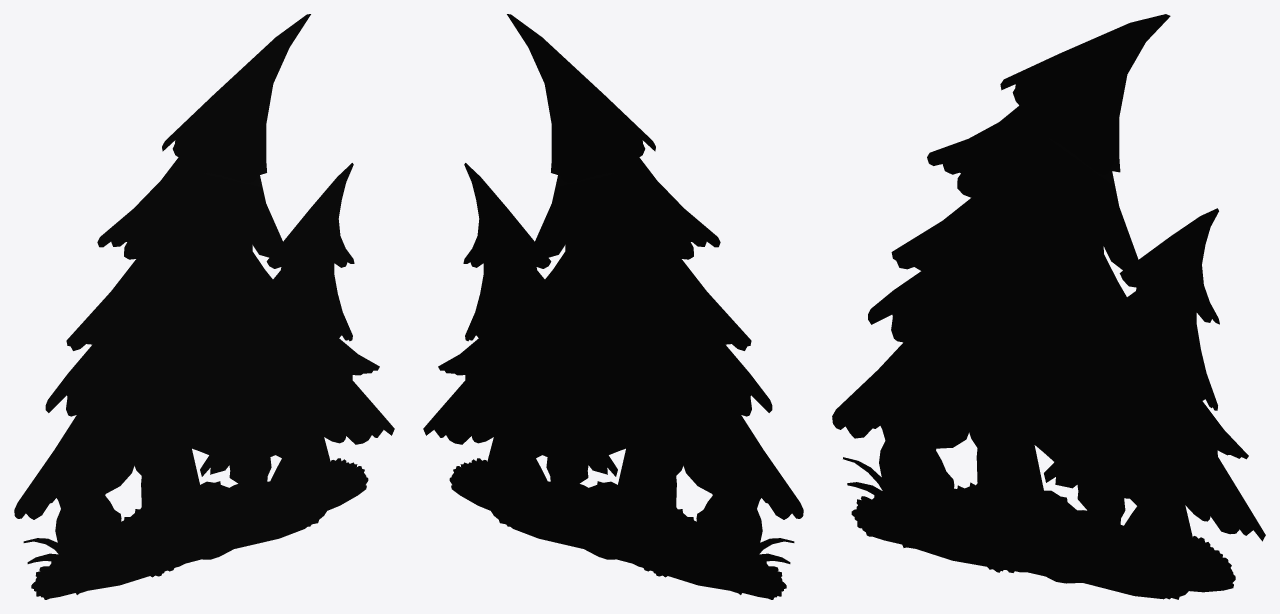
File: left.fbx
3 views of the same model, side by side, from view 1: azimuth 30°, elevation 25°; view 2: azimuth 150°, elevation 25°; view 3: azimuth 330°, elevation 25° (orthographic). The views are drawn at different scales.
Parts seen in each view (by area): view 1: left; view 2: left; view 3: left.
Boxes of the visible parts, box(x1,y1,x2,y2) form: left: box(14, 14, 394, 599); left: box(423, 14, 803, 599); left: box(832, 14, 1265, 599).
Size of the model in its own units: 14.66 by 19.36 by 0.
